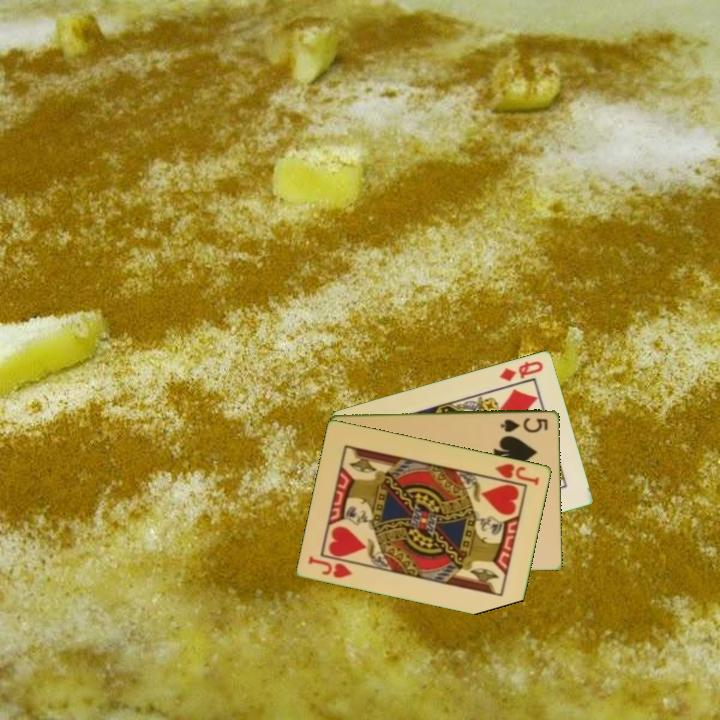5s: (497, 414, 551, 435)
Jh: (486, 460, 542, 488), (305, 552, 356, 581)
Qd: (496, 357, 546, 384)
